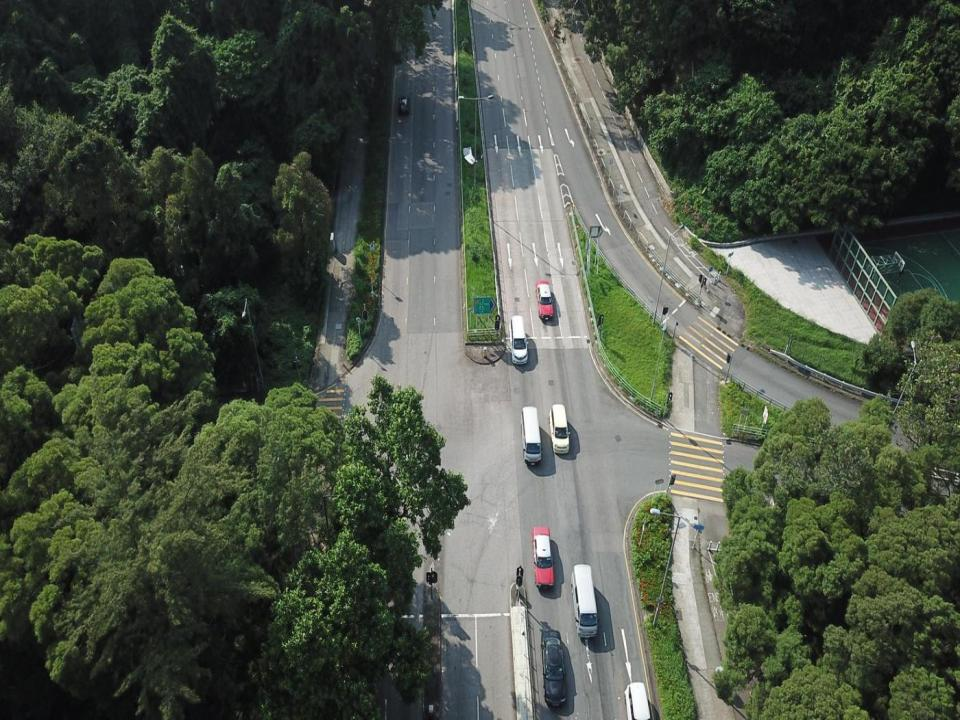car: (540, 629, 567, 706), (532, 524, 556, 590), (624, 682, 652, 719), (535, 280, 555, 320), (398, 94, 410, 115)
van: (571, 563, 598, 638), (520, 406, 542, 465), (548, 403, 570, 454), (509, 315, 528, 365)
